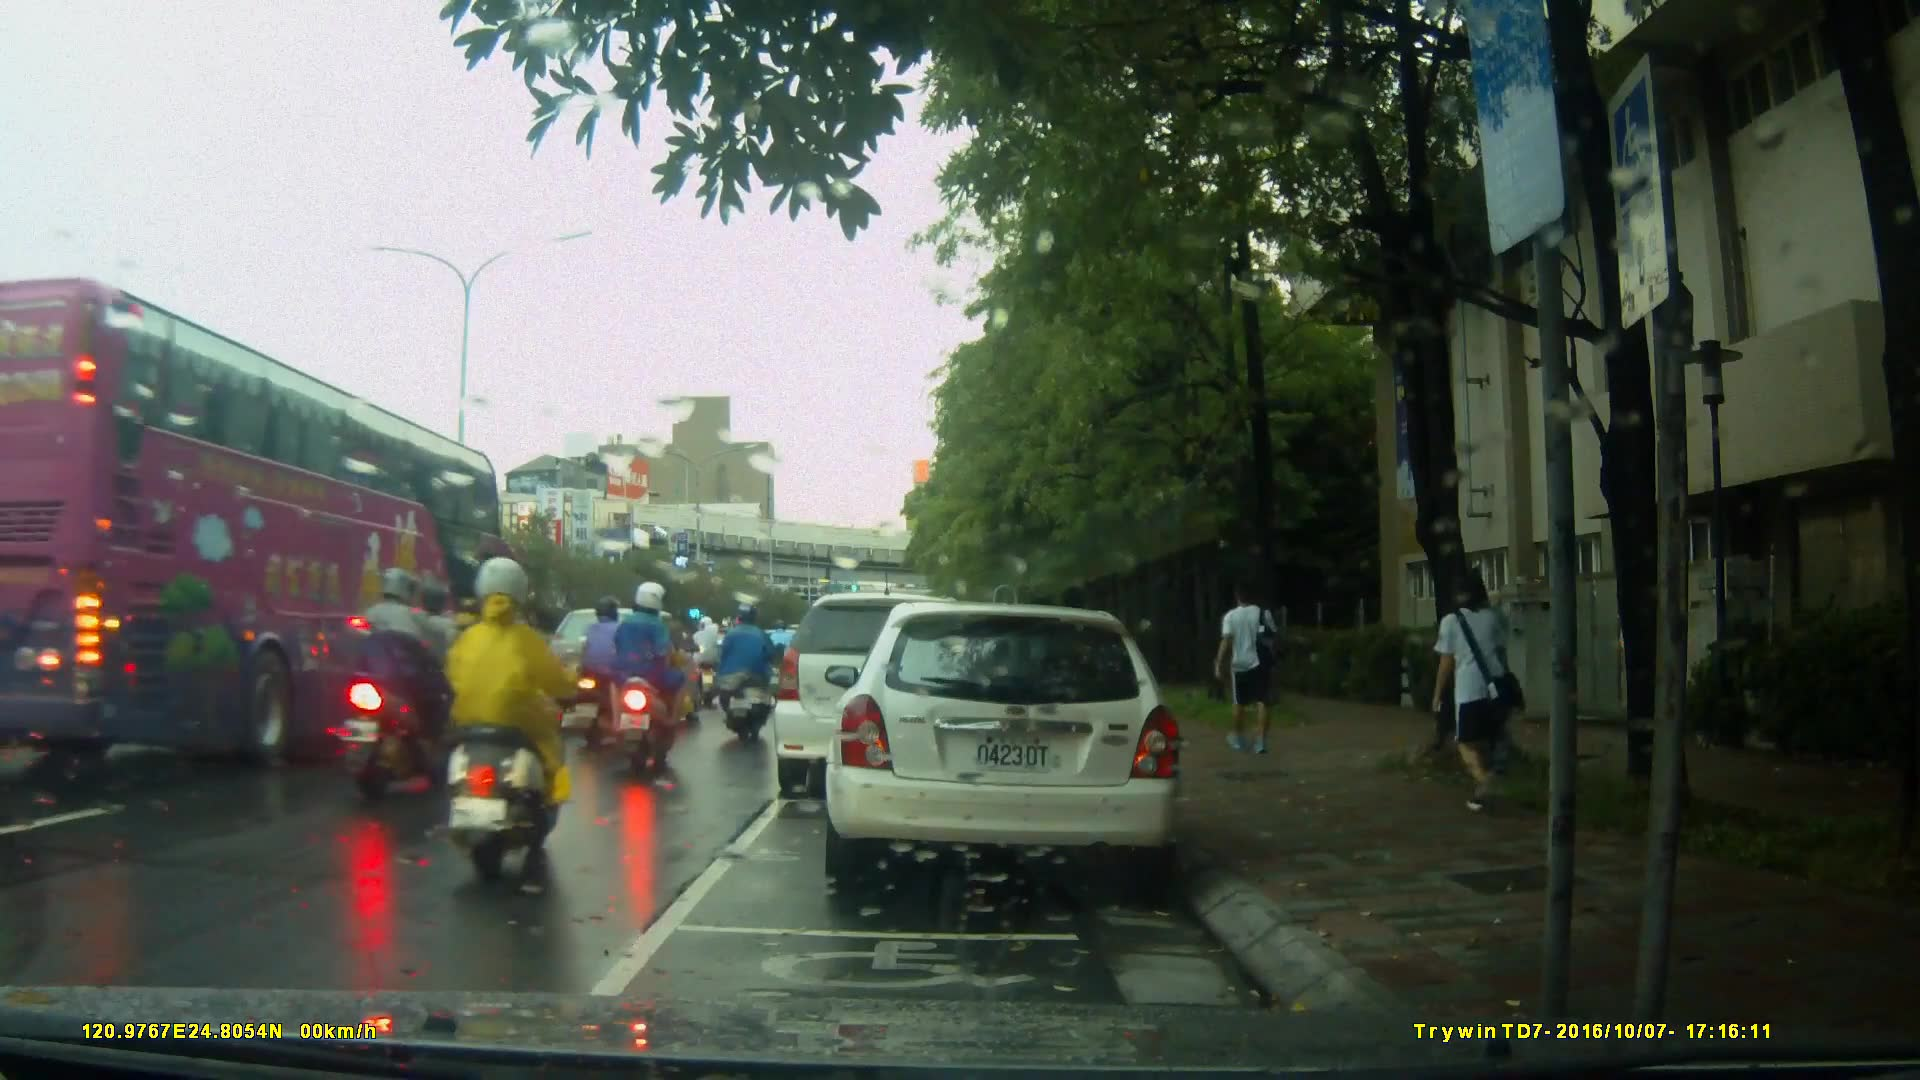pedestrian: (1422, 567, 1514, 825), (1202, 577, 1275, 762)
rider: (445, 548, 570, 885), (349, 562, 465, 807), (602, 577, 684, 792), (576, 596, 640, 753), (713, 601, 777, 750), (719, 615, 766, 709), (768, 614, 801, 691)
vehicle: (4, 292, 534, 768), (835, 594, 1194, 898), (776, 590, 1026, 784), (528, 605, 704, 744)
